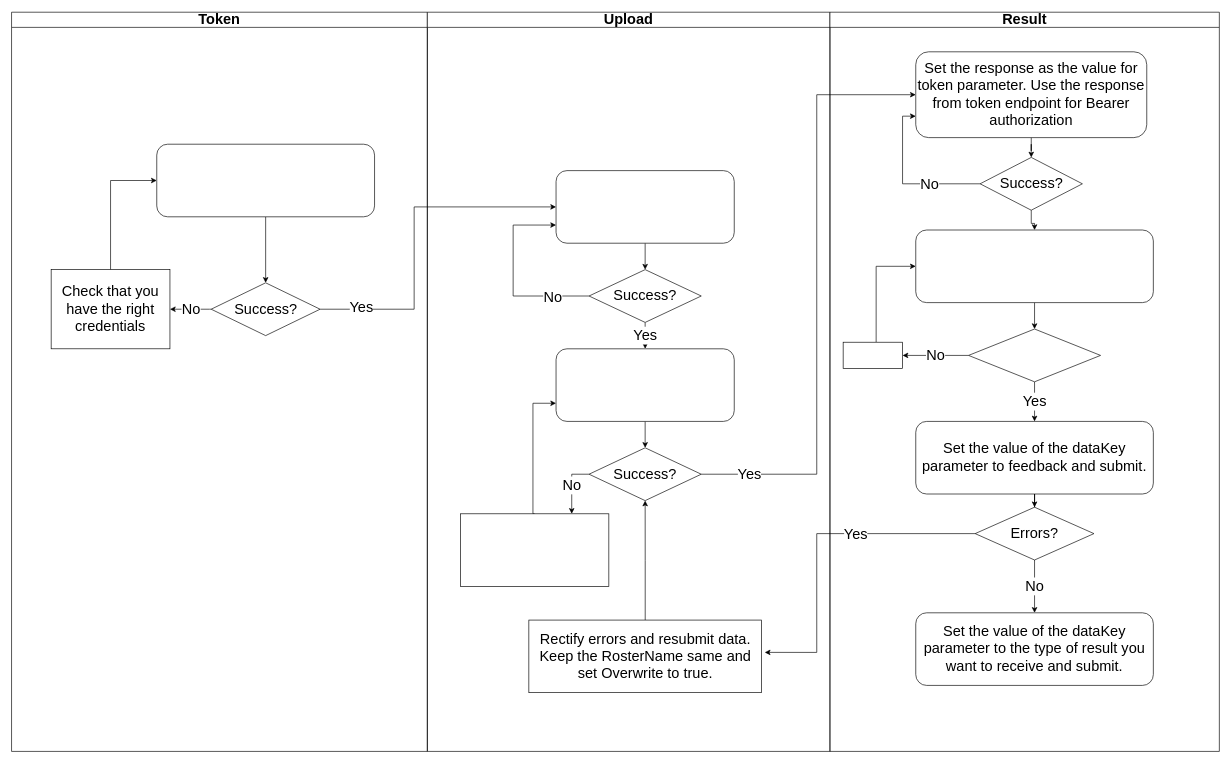
The diagram is 1231 pixels wide and 763 high, and some of its shapes have lost their labels. Each missing label, with the centre of its shape:
Completed?: pixel 1034 355
Set the response as the value for Bearer authorization: pixel 644 206
Set the value of the dataKey parameter to status and submit.: pixel 1034 266
Submit the roster data as JSON or Form URL encode: pixel 644 384
Submit your base64 encoded ClientID and ClientSecret to token endpoint: pixel 265 180
Verify the fields and data are in correct order and format.: pixel 534 549
Wait: pixel 872 355
